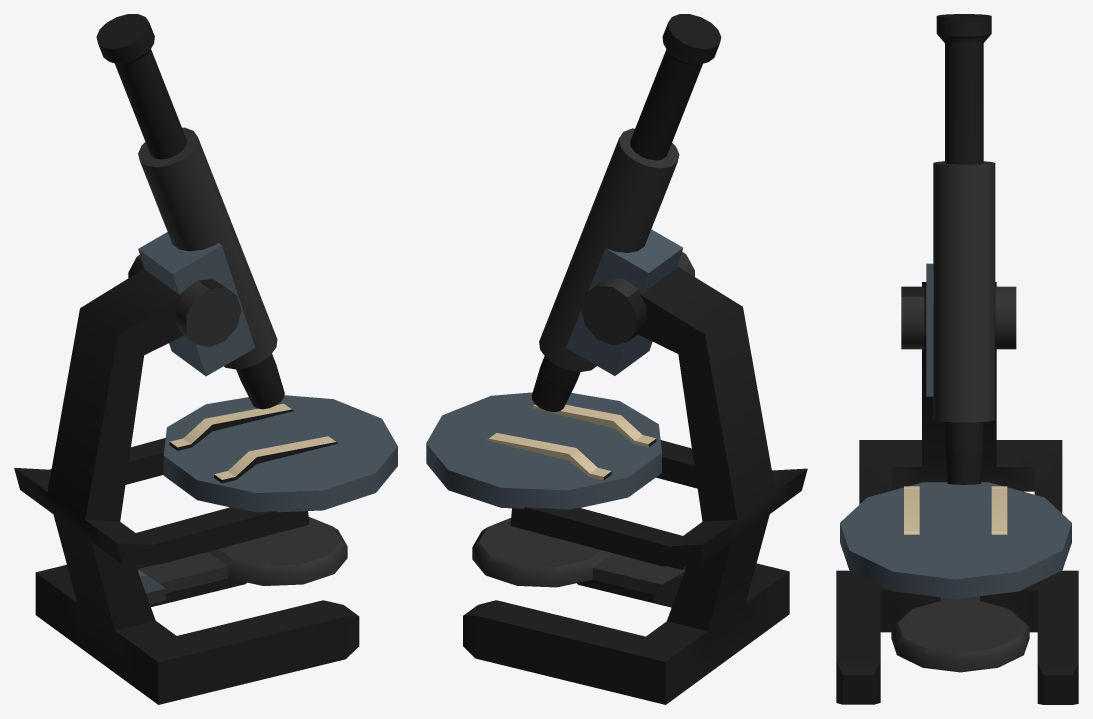
File: microscoop.fbx
The picture shows the model from 3 angles, left to right: view 1: azimuth 30°, elevation 25°; view 2: azimuth 150°, elevation 25°; view 3: azimuth 270°, elevation 25°; orthographic projection. The views are drawn at different scales.
Visible parts, largest first — view 1: pCylinder8; view 2: pCylinder8; view 3: pCylinder8.
Part boxes in pixels (bbox=[...]): pCylinder8: bbox=[14, 14, 397, 704]; pCylinder8: bbox=[426, 14, 807, 704]; pCylinder8: bbox=[836, 14, 1078, 704].
Bounding box in the file's own units: 7.71 × 14.73 × 5.23.
